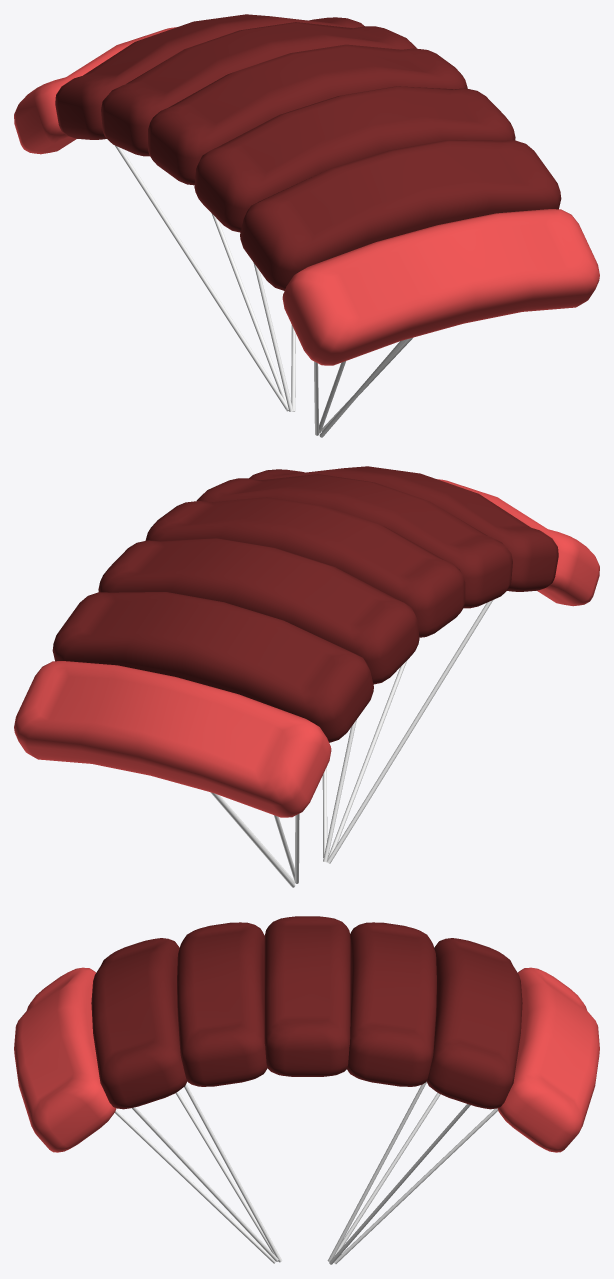
The model's file is 3D_Model_Parachute_V5.fbx.
3 renders of one model, top to bottom at view 1: azimuth 30°, elevation 25°; view 2: azimuth 150°, elevation 25°; view 3: azimuth 270°, elevation 25°, orthographic. The views are drawn at different scales.
Visible parts, largest first — view 1: polySurface75; view 2: polySurface75; view 3: polySurface75.
Boxes of the visible parts, x1,y1,x2,y2 form: polySurface75: [14, 14, 599, 437]; polySurface75: [14, 466, 599, 887]; polySurface75: [14, 916, 599, 1264].
Bounding box in the file's own units: 8.58 × 10.18 × 17.15.
